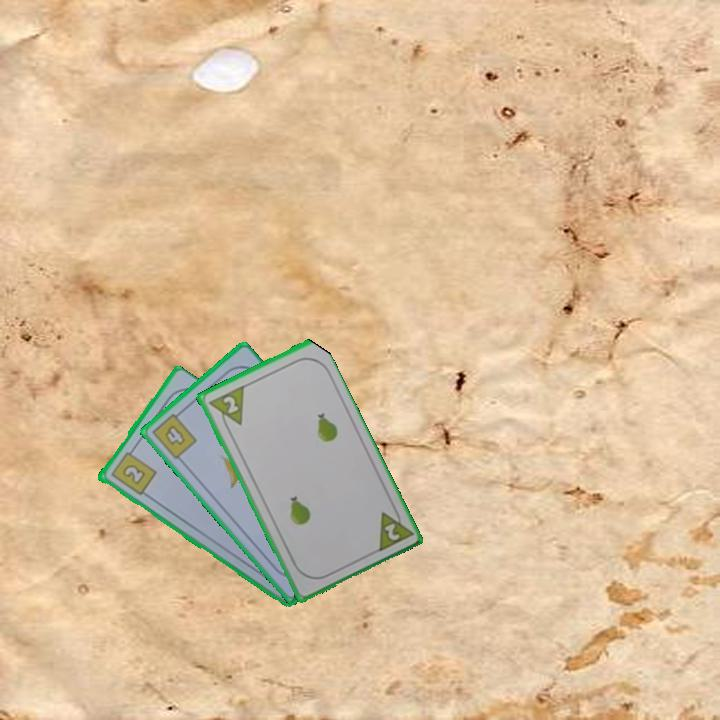2b: (107, 444, 159, 498)
2p: (373, 501, 414, 555), (204, 382, 247, 433)
4b: (148, 407, 200, 462)
